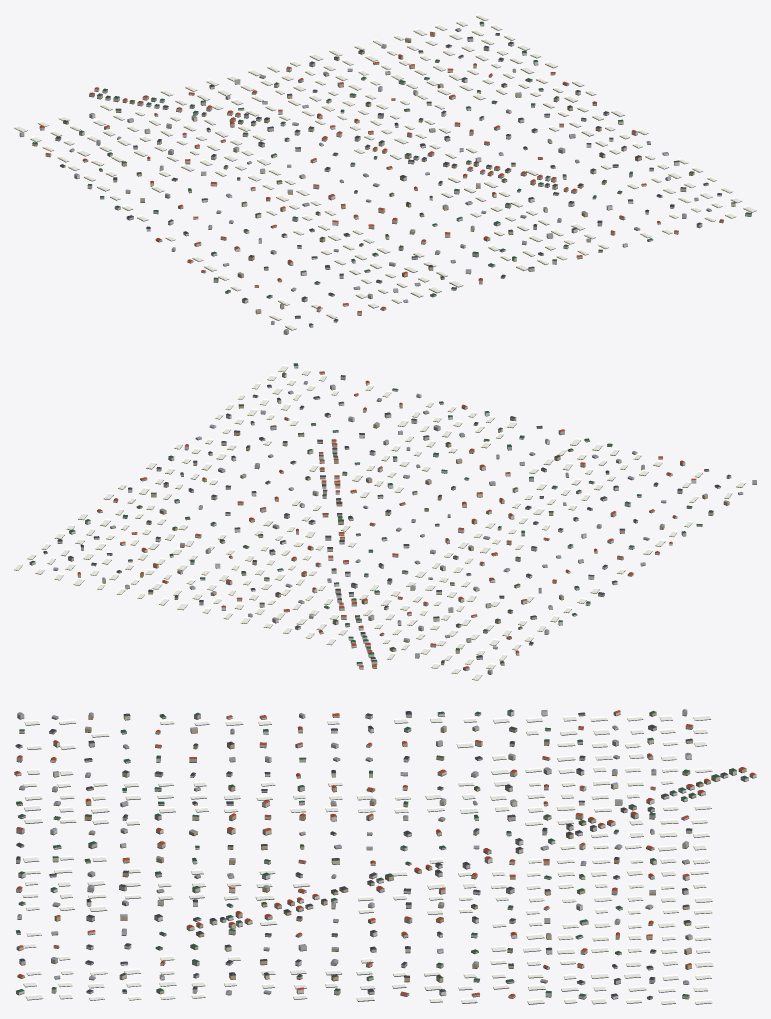
Rendered from buildings_T_E08_S04.glb.
3 views of the same model, one above another, from view 1: azimuth 30°, elevation 25°; view 2: azimuth 150°, elevation 25°; view 3: azimuth 270°, elevation 25° (orthographic). The views are drawn at different scales.
Parts seen in each view (by area): view 1: T_E08_S04_roofs_agri_greenhouse_arch, T_E08_S04_slope_seating_foundations, T_E08_S04_walls_wall_french_ochre_villa, T_E08_S04_walls_wall_pastel_sand_gray, T_E08_S04_roofs_roof_slate_French_villa_hip, T_E08_S04_walls_wall_dalat_cream_stucco, T_E08_S04_walls_wall_modern_warm_white, T_E08_S04_roofs_roof_terracotta_gable, T_E08_S04_roofs_roof_pine_green_hip, T_E08_S04_roofs_roof_zinc_silver_gable; view 2: T_E08_S04_roofs_agri_greenhouse_arch, T_E08_S04_slope_seating_foundations, T_E08_S04_walls_wall_french_ochre_villa, T_E08_S04_walls_wall_pastel_sand_gray, T_E08_S04_roofs_roof_slate_French_villa_hip, T_E08_S04_walls_wall_dalat_cream_stucco, T_E08_S04_walls_wall_modern_warm_white, T_E08_S04_roofs_roof_terracotta_gable, T_E08_S04_roofs_roof_pine_green_hip, T_E08_S04_roofs_roof_zinc_silver_gable; view 3: T_E08_S04_roofs_agri_greenhouse_arch, T_E08_S04_slope_seating_foundations, T_E08_S04_walls_wall_french_ochre_villa, T_E08_S04_walls_wall_pastel_sand_gray, T_E08_S04_roofs_roof_slate_French_villa_hip, T_E08_S04_walls_wall_dalat_cream_stucco, T_E08_S04_walls_wall_modern_warm_white, T_E08_S04_roofs_roof_terracotta_gable, T_E08_S04_roofs_roof_pine_green_hip, T_E08_S04_roofs_roof_zinc_silver_gable.
Part boxes in pixels (x1=…): T_E08_S04_roofs_agri_greenhouse_arch: x1=14, y1=14, x2=756, y2=329; T_E08_S04_slope_seating_foundations: x1=14, y1=16, x2=756, y2=334; T_E08_S04_walls_wall_french_ochre_villa: x1=32, y1=33, x2=723, y2=313; T_E08_S04_walls_wall_pastel_sand_gray: x1=19, y1=29, x2=711, y2=334; T_E08_S04_roofs_roof_slate_French_villa_hip: x1=55, y1=33, x2=721, y2=321; T_E08_S04_walls_wall_dalat_cream_stucco: x1=45, y1=22, x2=735, y2=318; T_E08_S04_walls_wall_modern_warm_white: x1=69, y1=43, x2=751, y2=321; T_E08_S04_roofs_roof_terracotta_gable: x1=39, y1=31, x2=723, y2=312; T_E08_S04_roofs_roof_pine_green_hip: x1=32, y1=21, x2=751, y2=325; T_E08_S04_roofs_roof_zinc_silver_gable: x1=20, y1=28, x2=710, y2=331; T_E08_S04_roofs_agri_greenhouse_arch: x1=14, y1=364, x2=745, y2=680; T_E08_S04_slope_seating_foundations: x1=14, y1=366, x2=756, y2=680; T_E08_S04_walls_wall_french_ochre_villa: x1=43, y1=372, x2=729, y2=668; T_E08_S04_walls_wall_pastel_sand_gray: x1=53, y1=376, x2=756, y2=674; T_E08_S04_roofs_roof_slate_French_villa_hip: x1=43, y1=375, x2=720, y2=662; T_E08_S04_walls_wall_dalat_cream_stucco: x1=29, y1=374, x2=720, y2=664; T_E08_S04_walls_wall_modern_warm_white: x1=57, y1=364, x2=709, y2=669; T_E08_S04_roofs_roof_terracotta_gable: x1=77, y1=371, x2=696, y2=668; T_E08_S04_roofs_roof_pine_green_hip: x1=29, y1=363, x2=730, y2=663; T_E08_S04_roofs_roof_zinc_silver_gable: x1=53, y1=381, x2=756, y2=671; T_E08_S04_roofs_agri_greenhouse_arch: x1=22, y1=714, x2=713, y2=1003; T_E08_S04_slope_seating_foundations: x1=14, y1=714, x2=756, y2=1004; T_E08_S04_walls_wall_french_ochre_villa: x1=16, y1=712, x2=746, y2=999; T_E08_S04_walls_wall_pastel_sand_gray: x1=16, y1=710, x2=693, y2=996; T_E08_S04_roofs_roof_slate_French_villa_hip: x1=15, y1=711, x2=727, y2=998; T_E08_S04_walls_wall_dalat_cream_stucco: x1=16, y1=712, x2=736, y2=998; T_E08_S04_walls_wall_modern_warm_white: x1=14, y1=710, x2=756, y2=998; T_E08_S04_roofs_roof_terracotta_gable: x1=14, y1=710, x2=755, y2=997; T_E08_S04_roofs_roof_pine_green_hip: x1=16, y1=709, x2=748, y2=996; T_E08_S04_roofs_roof_zinc_silver_gable: x1=17, y1=709, x2=692, y2=993.
Size of the model in its own units: 1735 by 34.02 by 1863.
